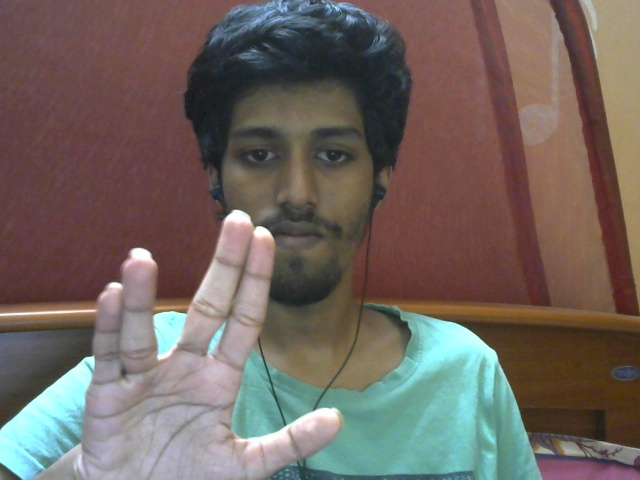LiveLong: (71, 209, 345, 480)
